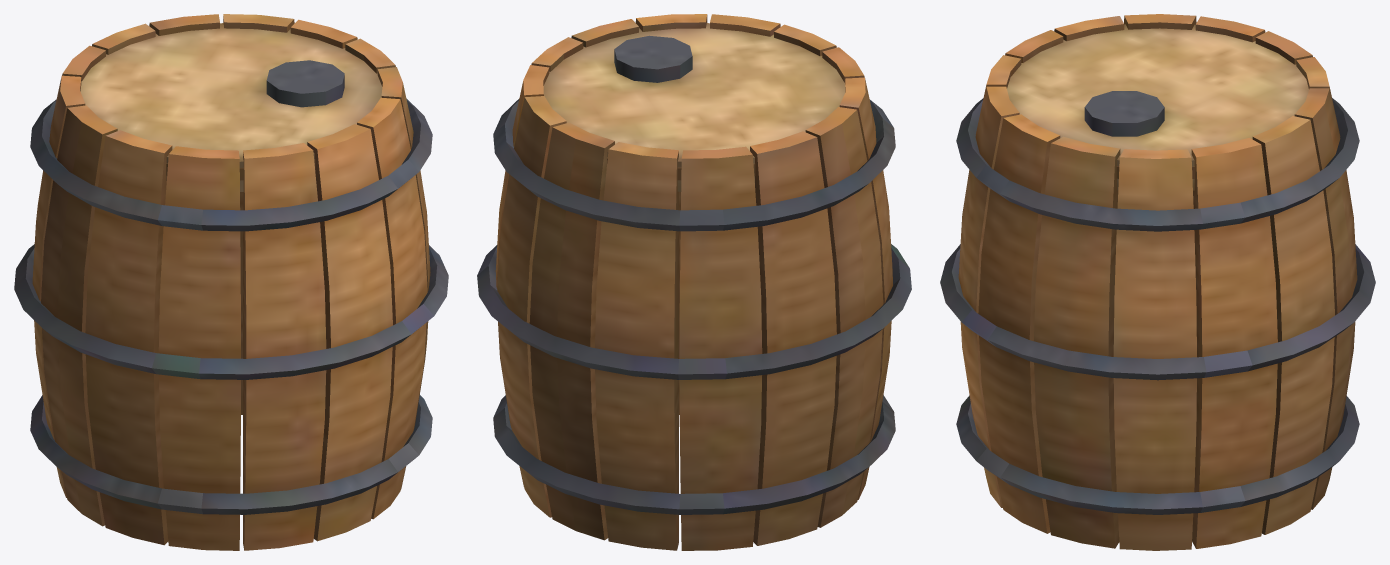
The model's file is barrel.glb.
3 views of the same model, side by side, from view 1: azimuth 30°, elevation 25°; view 2: azimuth 150°, elevation 25°; view 3: azimuth 270°, elevation 25° (orthographic).
Visible parts, largest first — view 1: lathe; view 2: lathe; view 3: lathe.
Boxes of the visible parts, bbox=[...] form: lathe: bbox=[14, 14, 448, 550]; lathe: bbox=[477, 14, 911, 550]; lathe: bbox=[940, 14, 1375, 550].
Size of the model in its own units: 1.31 by 1.32 by 1.31.
Materials: 1 (1 with a texture image).
